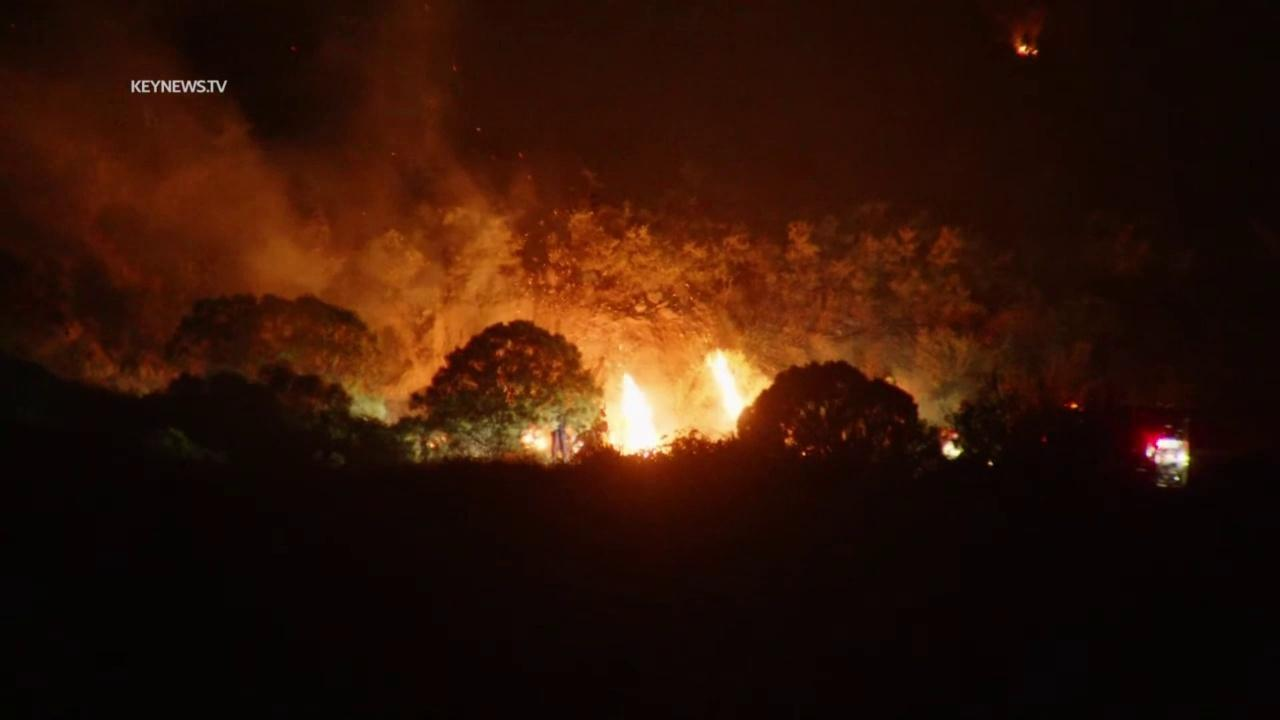fire: (600, 369, 669, 460), (710, 343, 747, 428), (519, 426, 554, 457), (937, 426, 961, 442), (1012, 46, 1041, 56), (1068, 401, 1081, 411), (799, 448, 809, 458)
smoke: (0, 0, 544, 423), (990, 1, 1050, 47)
